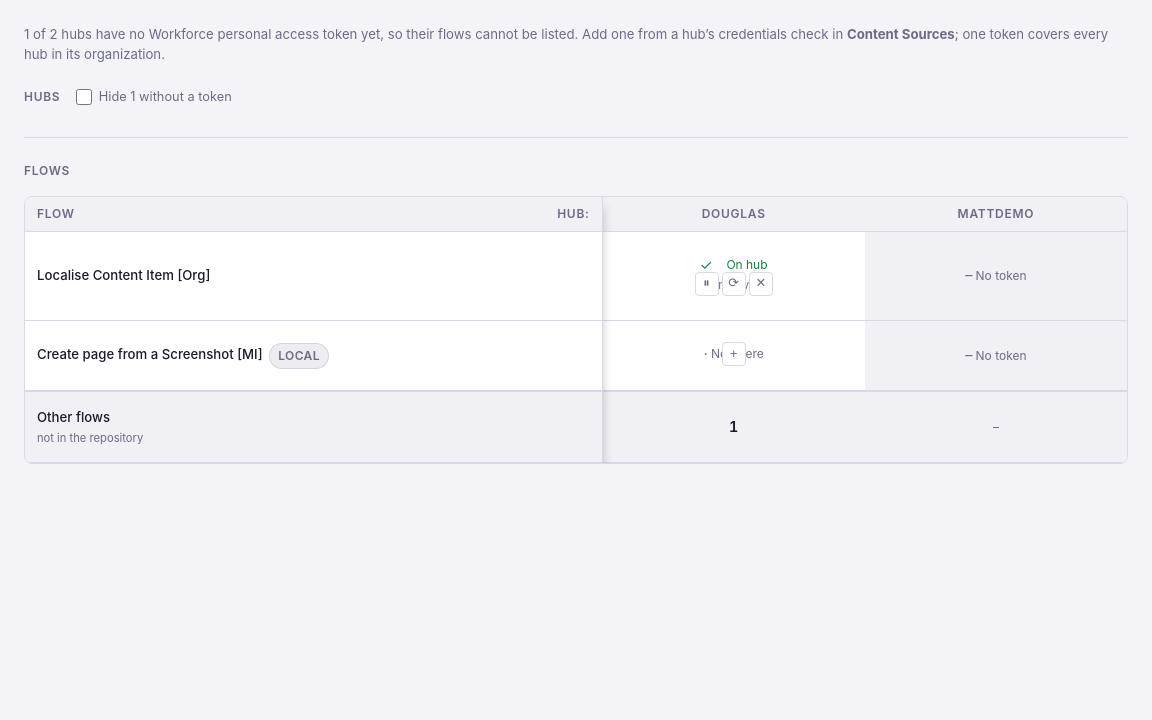
Test case: FlowsTab — running an operation › logs what the push did, including how long each step took
Click the button named "Push douglas" at (734, 354), box [722,342,746,366]
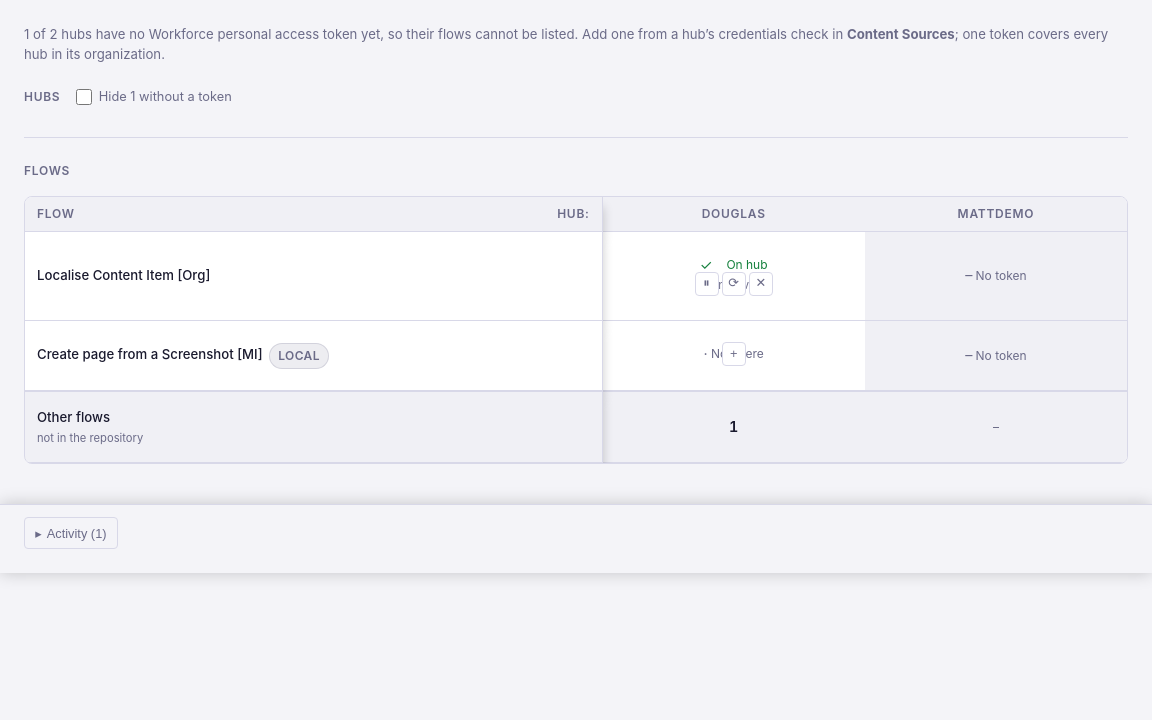
Click the button "▸ Activity (1)" at (71, 533), box [24,517,118,549]
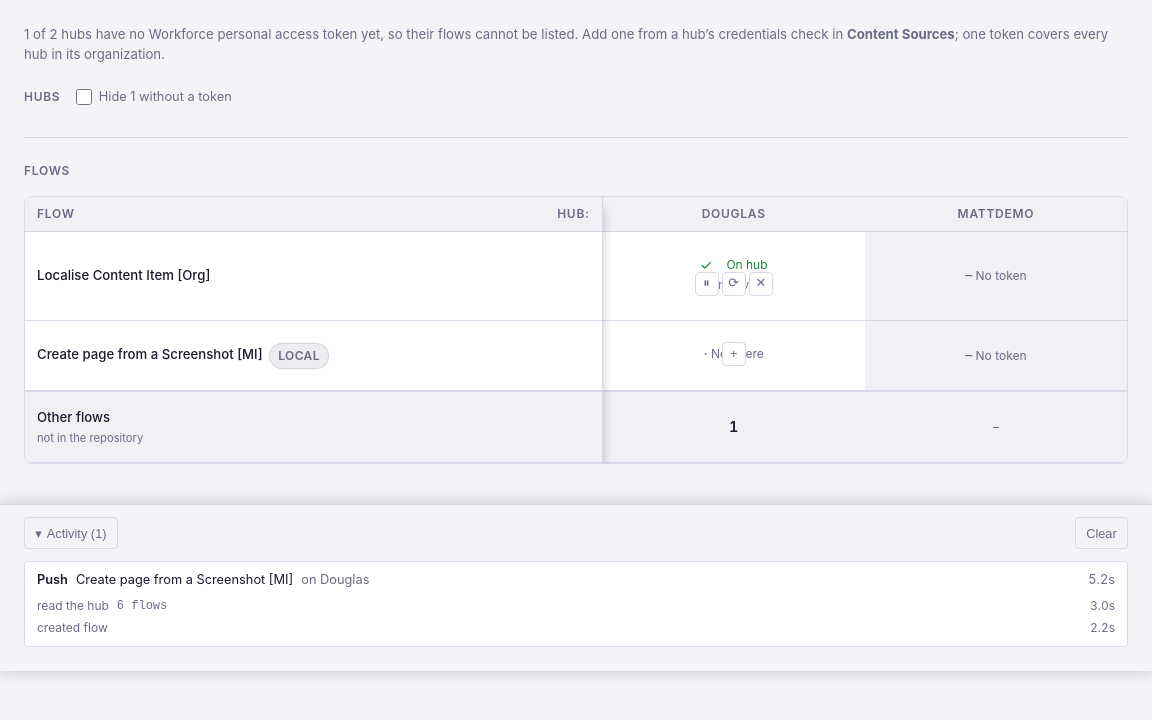
Result: the text "created flow" is shown at [37,619,108,637]
Result: the text "2.2s" is shown at [1090,619,1115,637]
Result: the text "5.2s" is shown at [1088,570,1115,590]
